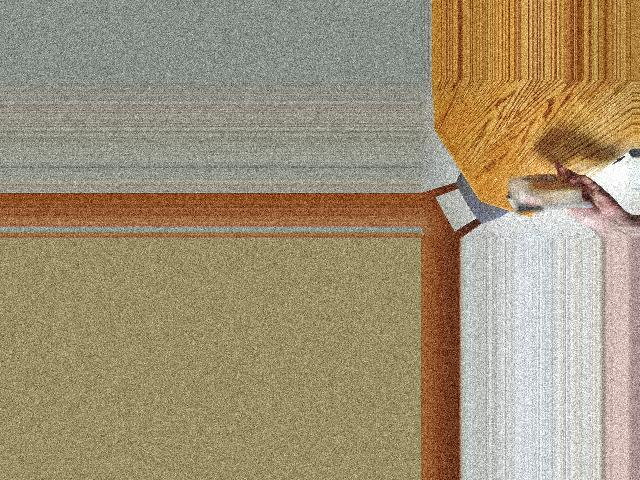cheese: (509, 165, 584, 220)
